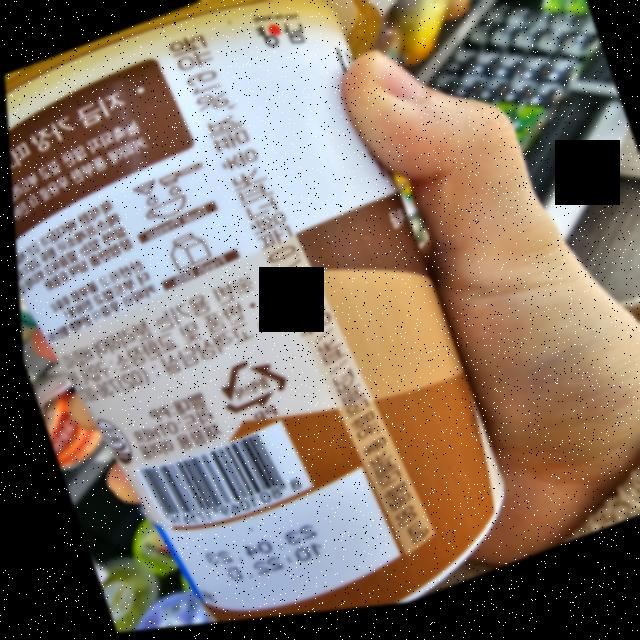Plastic: (204, 348, 292, 426)
